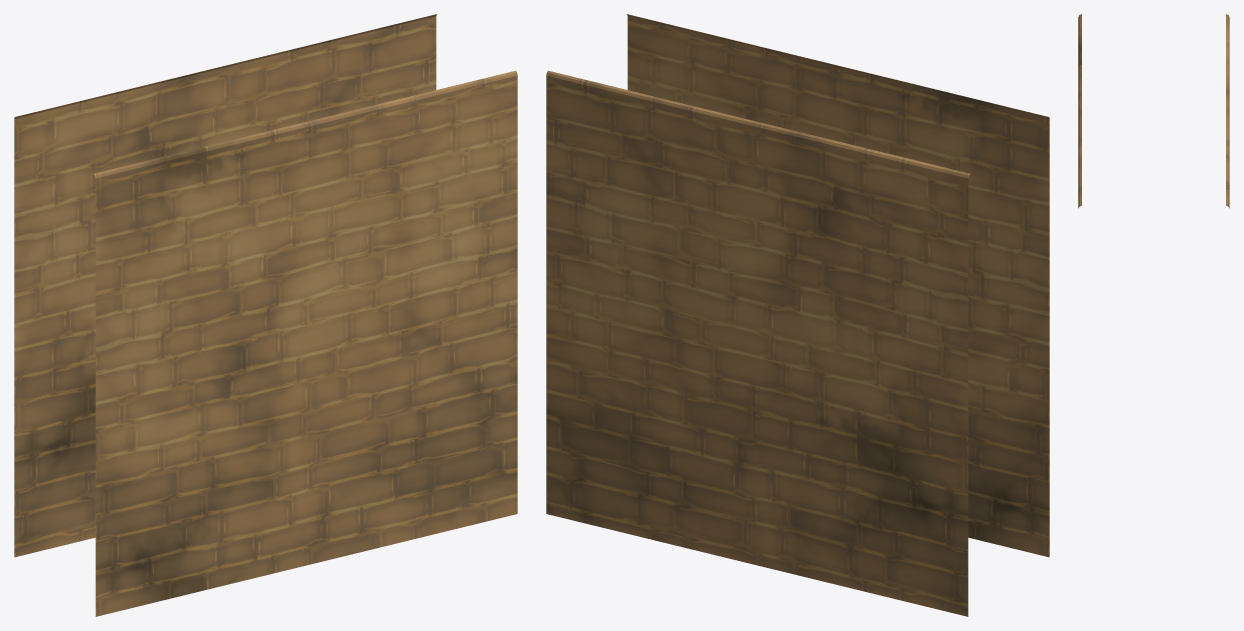
The model's file is SM_Env_Wall_B_Simple.fbx.
The picture shows the model from 3 angles, left to right: view 1: azimuth 30°, elevation 25°; view 2: azimuth 150°, elevation 25°; view 3: azimuth 270°, elevation 25°; orthographic projection. The views are drawn at different scales.
Parts seen in each view (by area): view 1: Wall_B_Simple; view 2: Wall_B_Simple; view 3: Wall_B_Simple.
Boxes of the visible parts, x1,y1,x2,y2 form: Wall_B_Simple: (14, 14, 517, 616); Wall_B_Simple: (546, 14, 1049, 616); Wall_B_Simple: (1078, 14, 1229, 208).
Size of the model in its own units: 300 by 300 by 100.
Materials: 1 (1 with a texture image).
